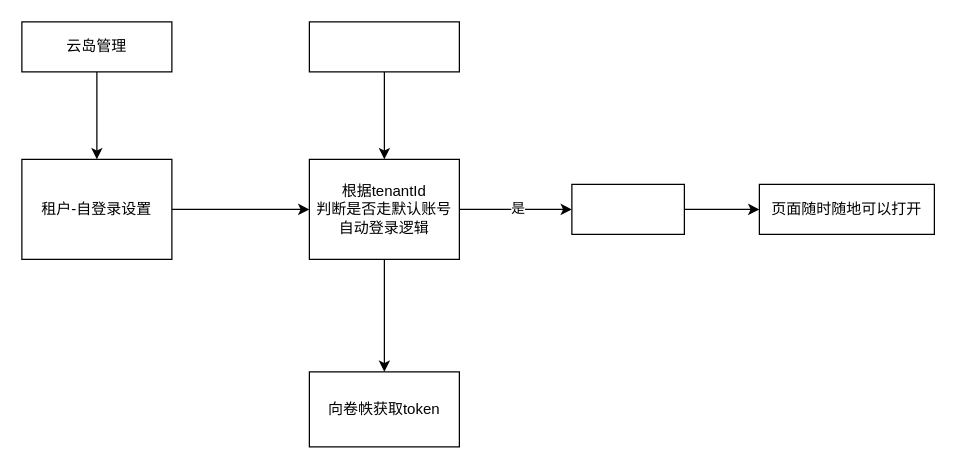
Some shapes in this 956 by 469 pixel diagram are drawn without their labels. Each missing label, with the centre of its shape:
"白云机房显示模块" belongs at (x=383, y=46).
"默认账号登录" belongs at (x=627, y=208).
